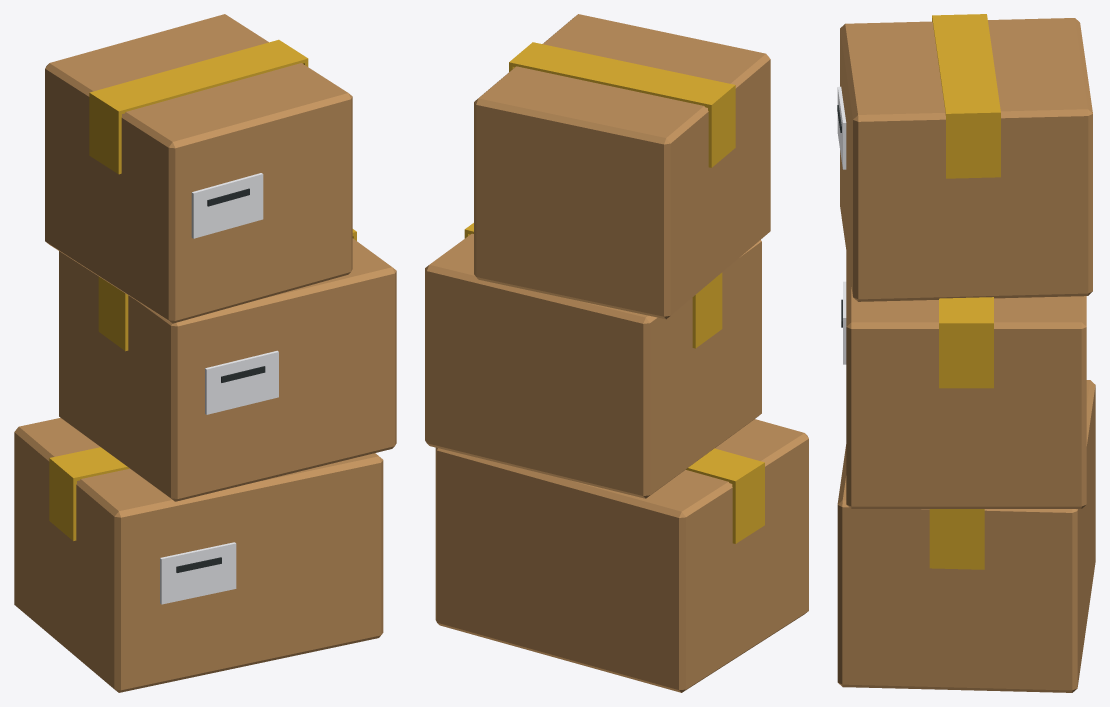
File: boxes.glb
3 views of the same model, side by side, from view 1: azimuth 30°, elevation 25°; view 2: azimuth 150°, elevation 25°; view 3: azimuth 270°, elevation 25° (orthographic). The views are drawn at different scales.
Parts seen in each view (by area): view 1: boxes-m; view 2: boxes-m; view 3: boxes-m.
Boxes of the visible parts, bbox=[...] form: boxes-m: bbox=[14, 14, 396, 692]; boxes-m: bbox=[425, 14, 808, 692]; boxes-m: bbox=[837, 14, 1095, 692].
Bounding box in the file's own units: 0.9693 × 1.81 × 0.7512.
